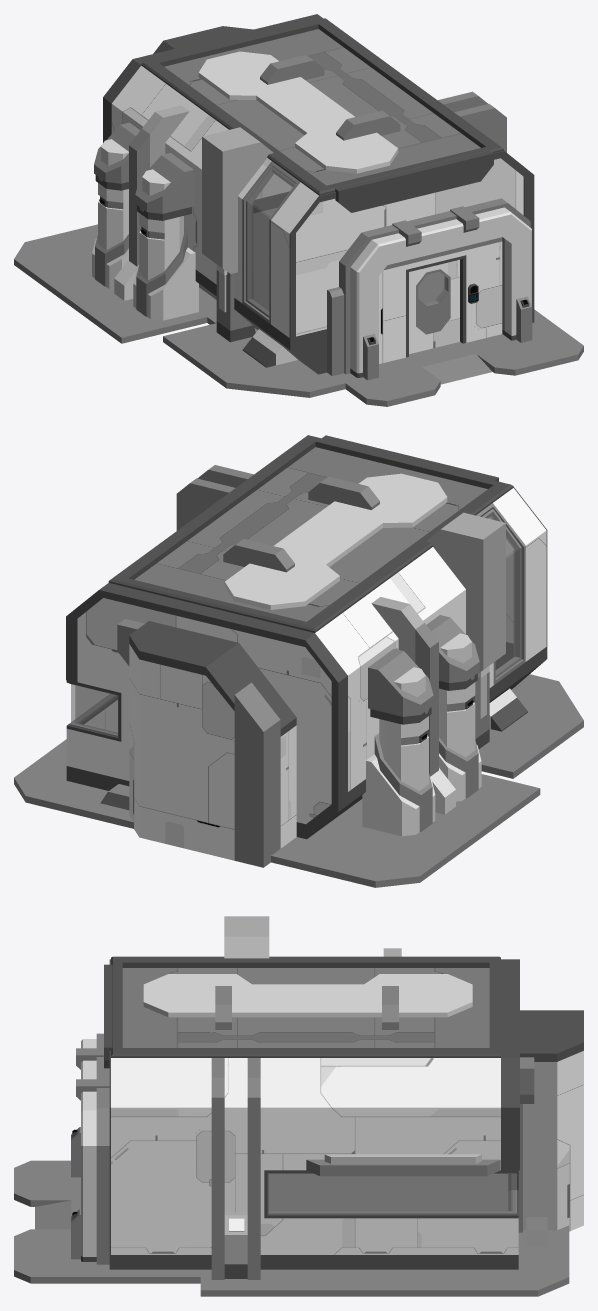
Rendered from SM_Building_3.fbx.
3 views of the same model, one above another, from view 1: azimuth 30°, elevation 25°; view 2: azimuth 150°, elevation 25°; view 3: azimuth 270°, elevation 25° (orthographic). The views are drawn at different scales.
Visible parts, largest first — view 1: SM_Building_3, SM_Building_3_Floor, SM_Building_3_Roof, SM_Building_3_Roof_Extras, SM_Building_3_Door; view 2: SM_Building_3, SM_Building_3_Floor, SM_Building_3_Roof, SM_Building_3_Roof_Extras; view 3: SM_Building_3, SM_Building_3_Floor, SM_Building_3_Roof, SM_Building_3_Roof_Extras.
Part boxes in pixels (<box>): SM_Building_3: <box>92,14,534,380</box>; SM_Building_3_Floor: <box>14,207,583,406</box>; SM_Building_3_Roof: <box>164,29,480,185</box>; SM_Building_3_Roof_Extras: <box>198,51,400,173</box>; SM_Building_3_Door: <box>409,259,459,353</box>; SM_Building_3: <box>66,435,547,867</box>; SM_Building_3_Floor: <box>14,674,583,887</box>; SM_Building_3_Roof: <box>134,447,487,621</box>; SM_Building_3_Roof_Extras: <box>223,473,447,609</box>; SM_Building_3: <box>71,916,583,1279</box>; SM_Building_3_Floor: <box>14,1160,569,1296</box>; SM_Building_3_Roof: <box>122,968,489,1047</box>; SM_Building_3_Roof_Extras: <box>143,974,472,1029</box>.
Bounding box in the file's own units: 882 × 473 × 1093.
